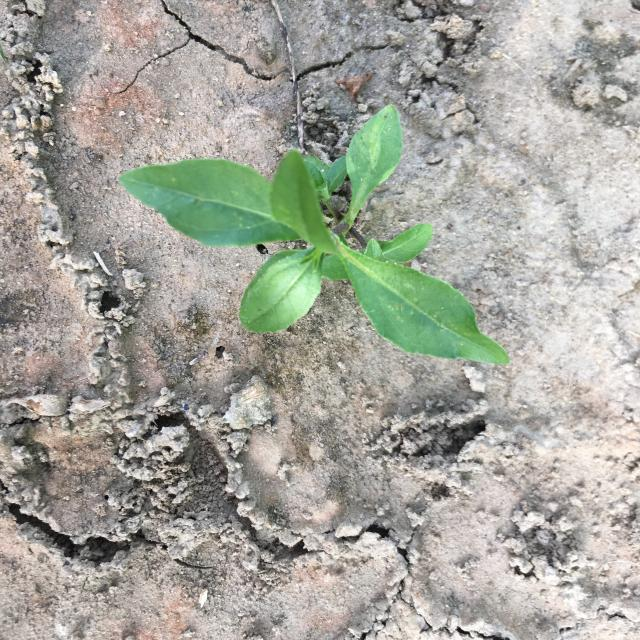Eclipta: (119, 104, 510, 365)
